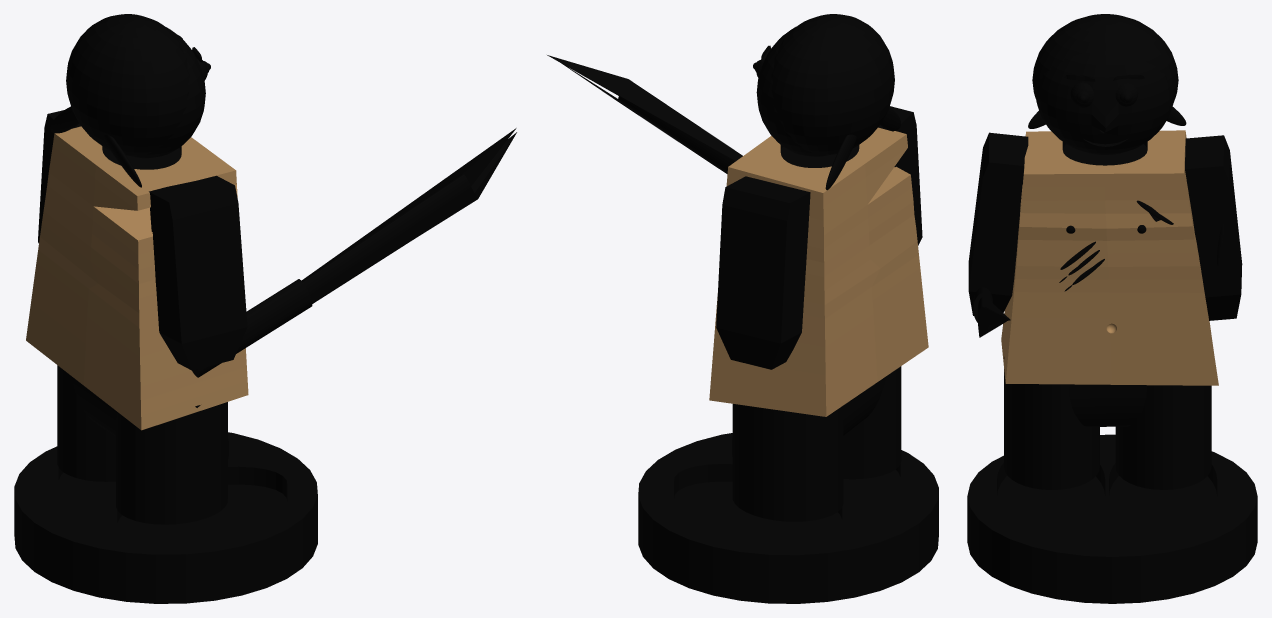
Rendered from Крыса.fbx.
3 renders of one model, left to right at view 1: azimuth 30°, elevation 25°; view 2: azimuth 150°, elevation 25°; view 3: azimuth 270°, elevation 25°, orthographic. The views are drawn at different scales.
Visible parts, largest first — view 1: Cylinder; view 2: Cylinder; view 3: Cylinder.
Part boxes in pixels (bbox=[...]): Cylinder: bbox=[14, 14, 516, 603]; Cylinder: bbox=[547, 14, 938, 603]; Cylinder: bbox=[967, 14, 1257, 603].
Size of the model in its own units: 1305 by 1541 by 800.
